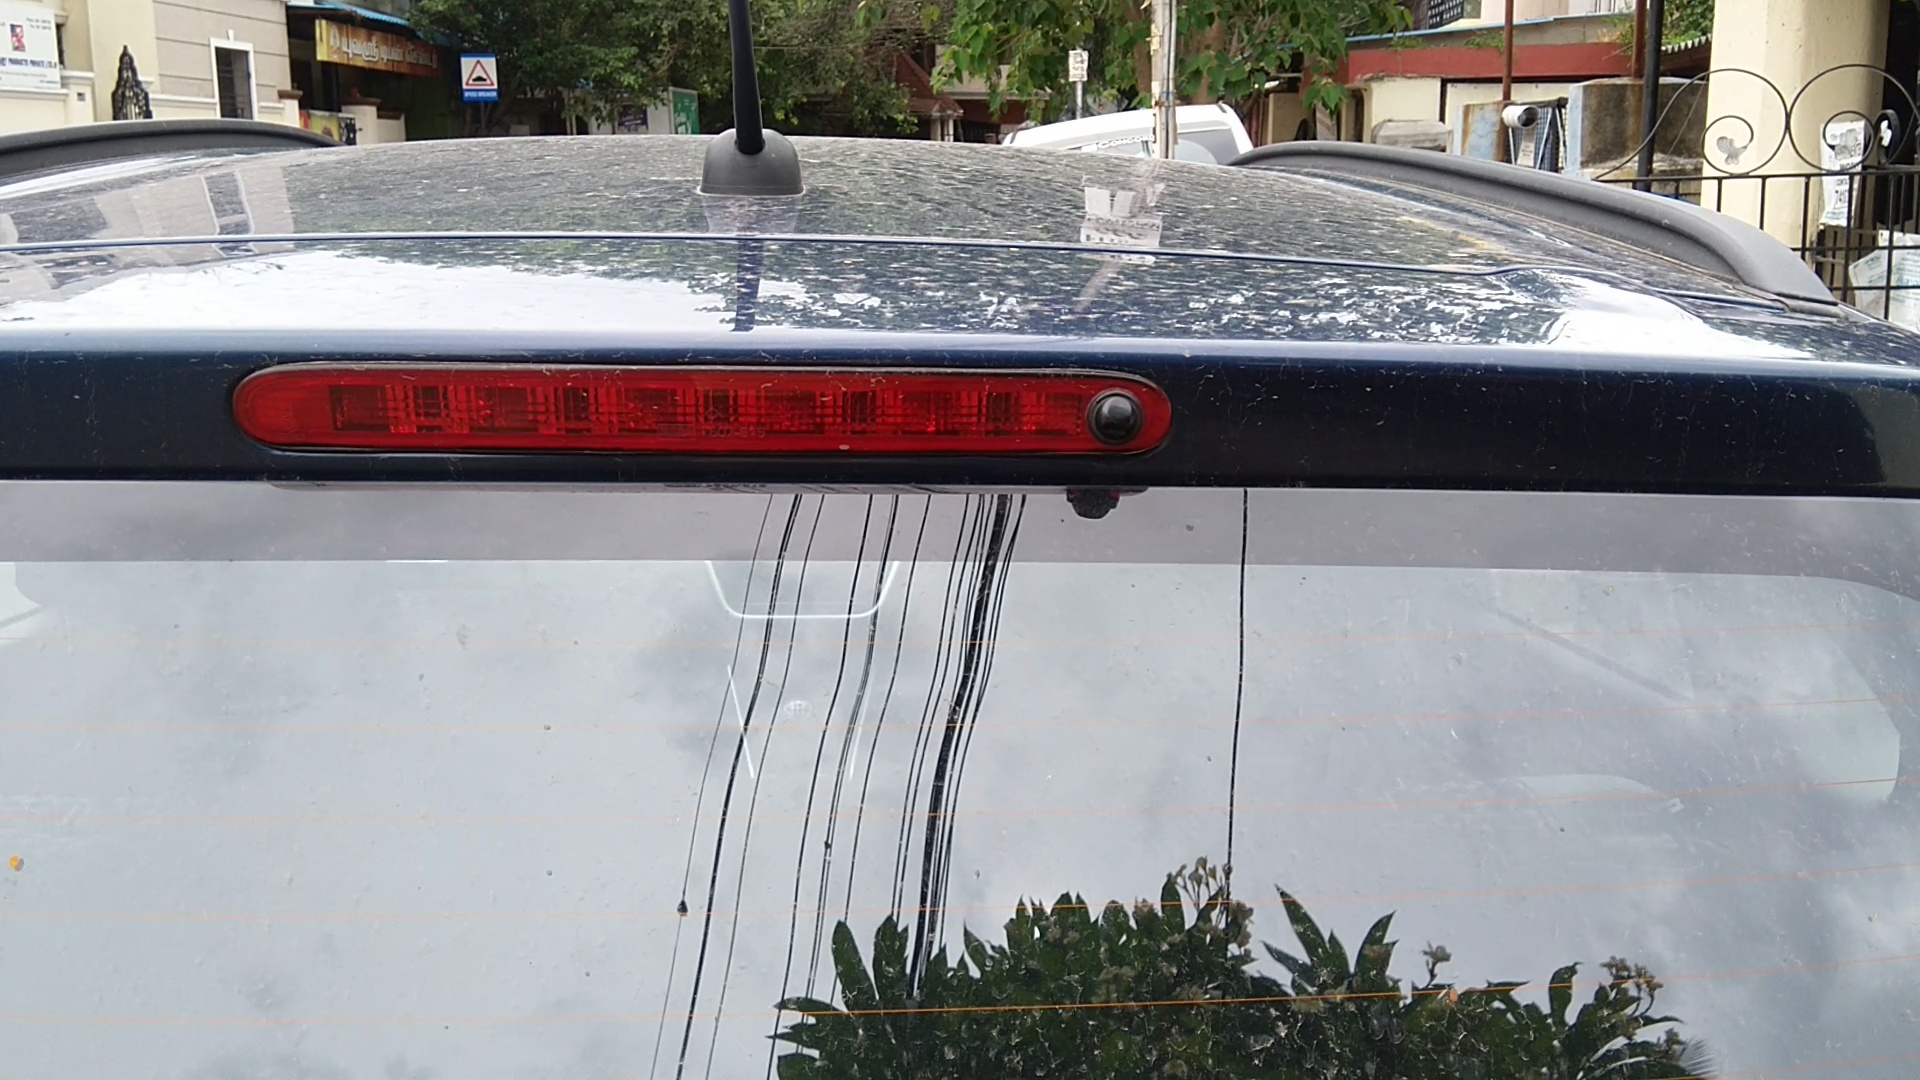rear_camera: (1076, 369, 1160, 462)
